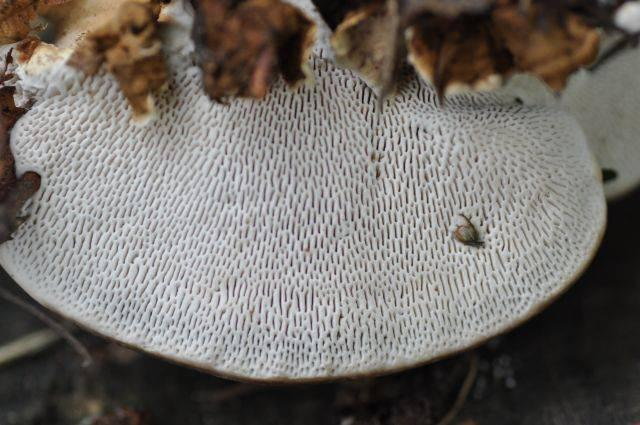Non-edible Mushroom: (0, 0, 611, 385)
